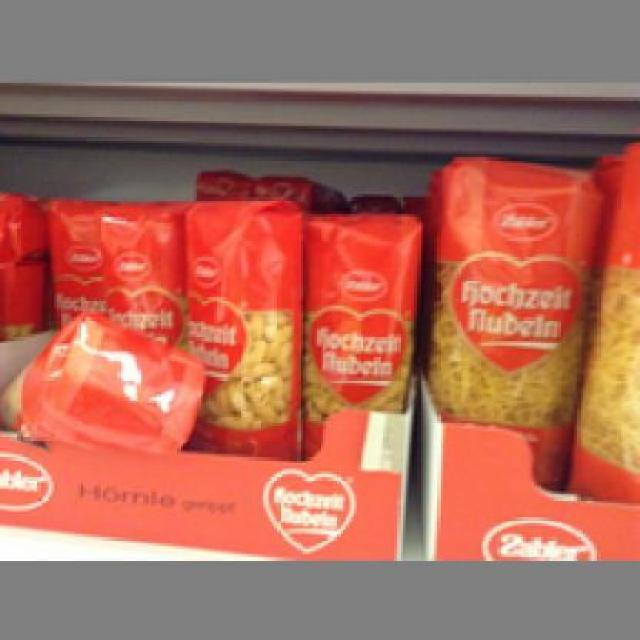Pasta: (423, 153, 600, 490), (0, 302, 206, 458), (180, 197, 303, 457), (303, 203, 420, 466)
